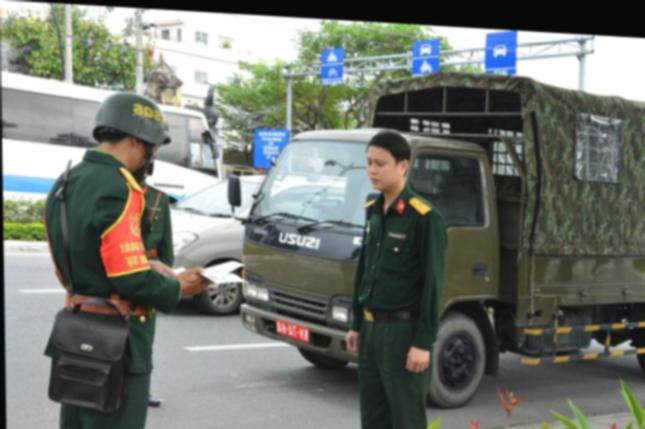License_Plate: (268, 319, 314, 340)
